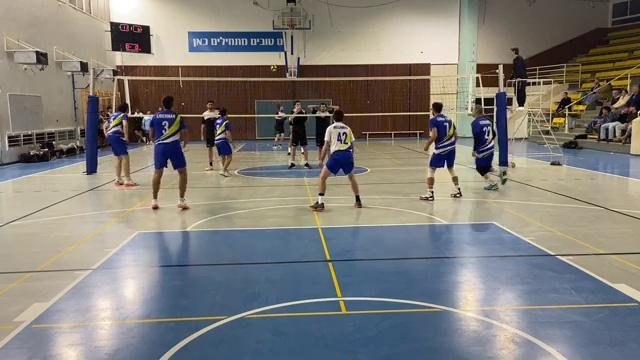ball: (269, 62, 279, 71)
